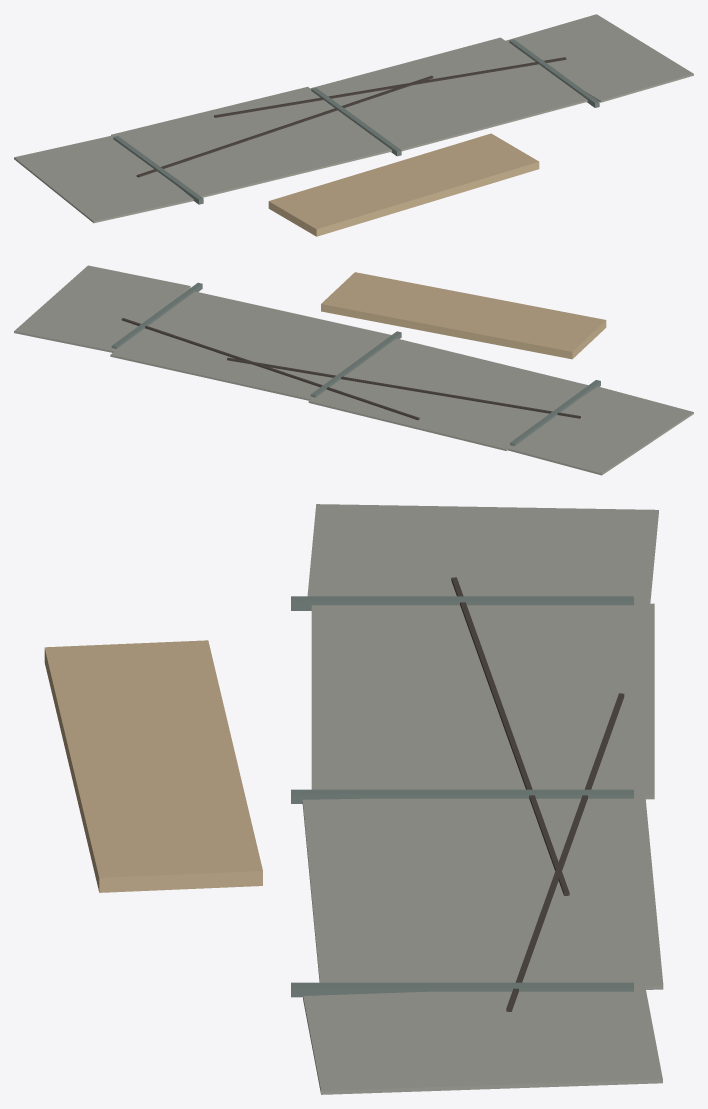
Rendered from SM_VallaBetera_Malla_e4_Brecha_LOD0.fbx.
The picture shows the model from 3 angles, top to bottom: view 1: azimuth 30°, elevation 25°; view 2: azimuth 150°, elevation 25°; view 3: azimuth 270°, elevation 25°; orthographic projection. The views are drawn at different scales.
Visible parts, largest first — view 1: SM_valla_estados_v4_LOD0; view 2: SM_valla_estados_v4_LOD0; view 3: SM_valla_estados_v4_LOD0.
Boxes of the visible parts, x1,y1,x2,y2 form: SM_valla_estados_v4_LOD0: (14, 14, 693, 236); SM_valla_estados_v4_LOD0: (14, 265, 693, 475); SM_valla_estados_v4_LOD0: (44, 504, 663, 1094).
Size of the model in its own units: 10.13 by 0.12 by 4.51.
